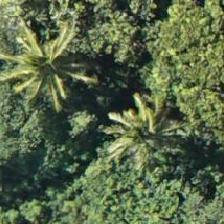coconut_tree: (10, 21, 100, 111), (98, 87, 188, 177)
